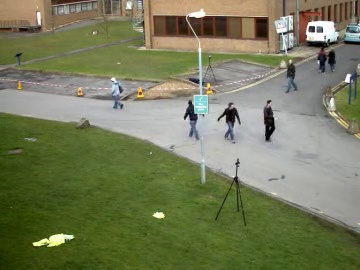person: (260, 99, 276, 143), (260, 100, 275, 142), (110, 79, 125, 110)
